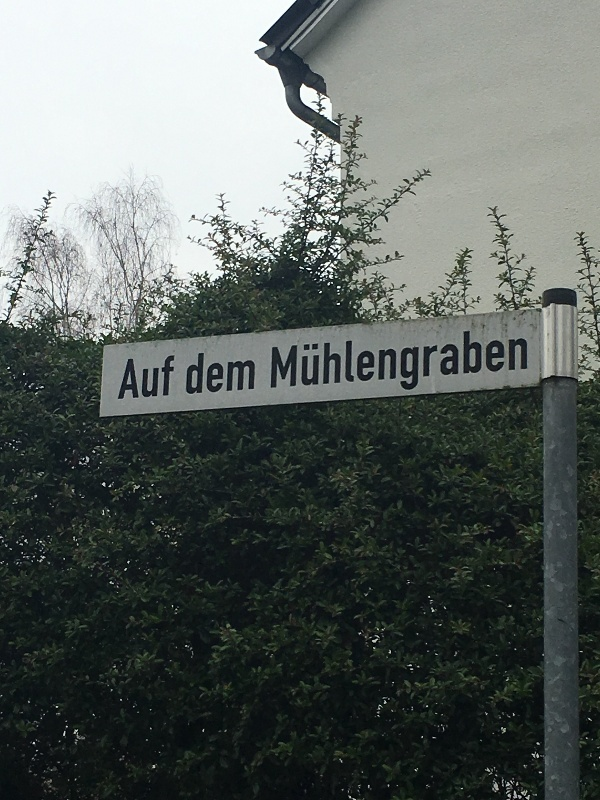text: (273, 326, 288, 397), (289, 326, 304, 397), (305, 326, 320, 397), (321, 326, 336, 397), (337, 326, 352, 397), (353, 326, 368, 397), (369, 326, 384, 397), (385, 326, 400, 397), (401, 326, 416, 397), (417, 326, 432, 397), (433, 326, 448, 397), (449, 326, 464, 397), (465, 326, 480, 397), (481, 326, 496, 397), (497, 326, 512, 397), (513, 326, 528, 397), (129, 355, 144, 400), (145, 355, 160, 400), (193, 352, 208, 396), (209, 352, 224, 396), (225, 352, 240, 396), (241, 352, 256, 396), (161, 355, 175, 400), (188, 352, 192, 396)
